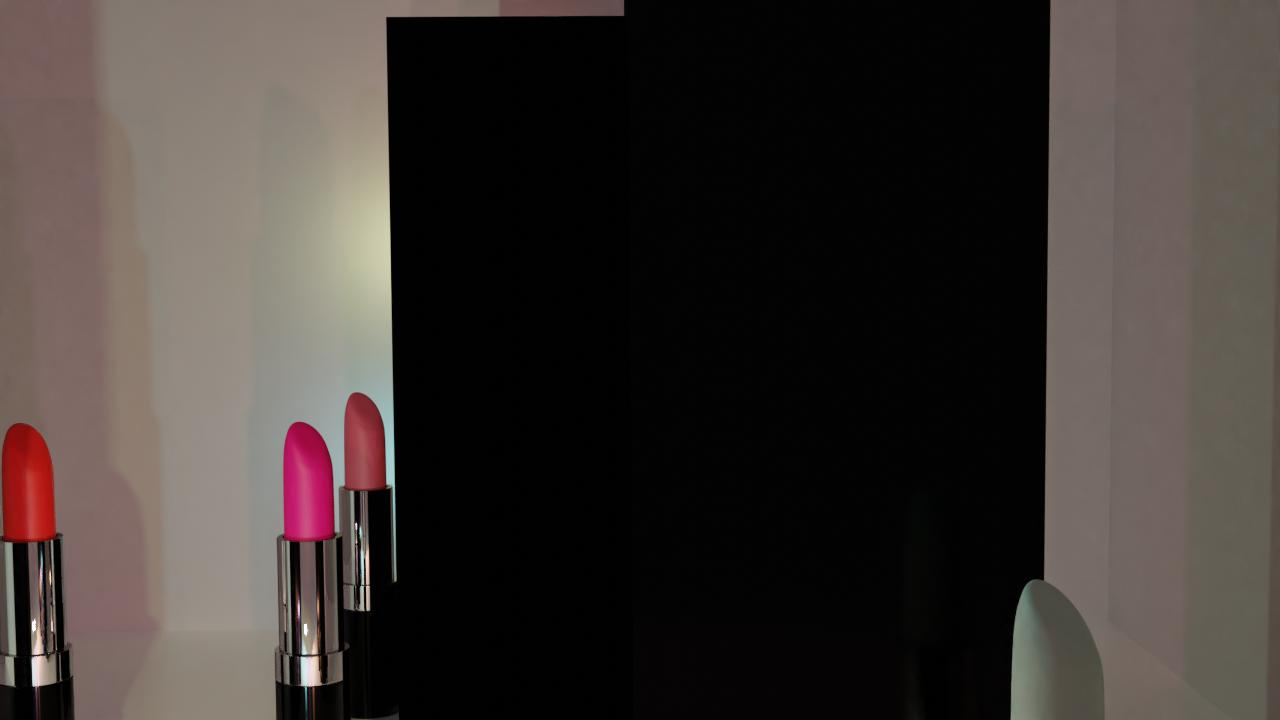CLASSIFIER_NAME: (273, 416, 354, 720), (0, 418, 79, 720), (335, 388, 402, 720), (981, 570, 1127, 720)
